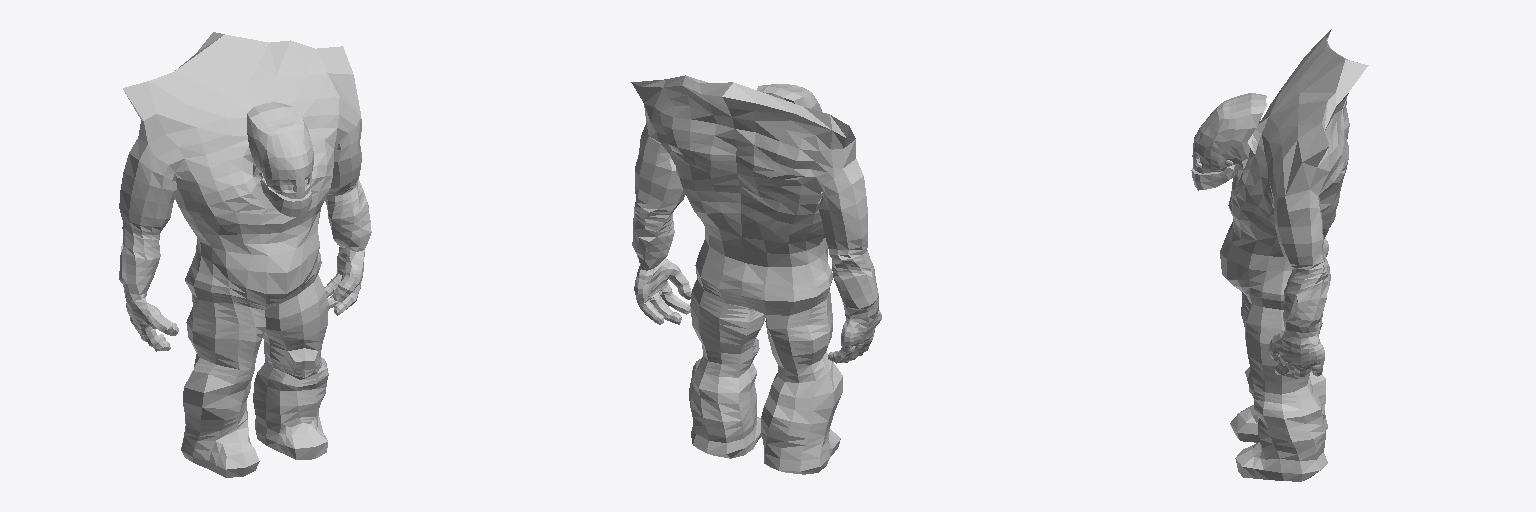
The model's file is golem_000014.obj.
3 views of the same model, side by side, from view 1: azimuth 30°, elevation 25°; view 2: azimuth 150°, elevation 25°; view 3: azimuth 270°, elevation 25° (orthographic).
Visible parts, largest first — view 1: golem; view 2: golem; view 3: golem.
Part boxes in pixels (x1,y1,x2,y2): golem: (119,32,371,477); golem: (631,75,881,474); golem: (1191,29,1368,481).
Size of the model in its own units: 7.35 by 11.31 by 4.61.